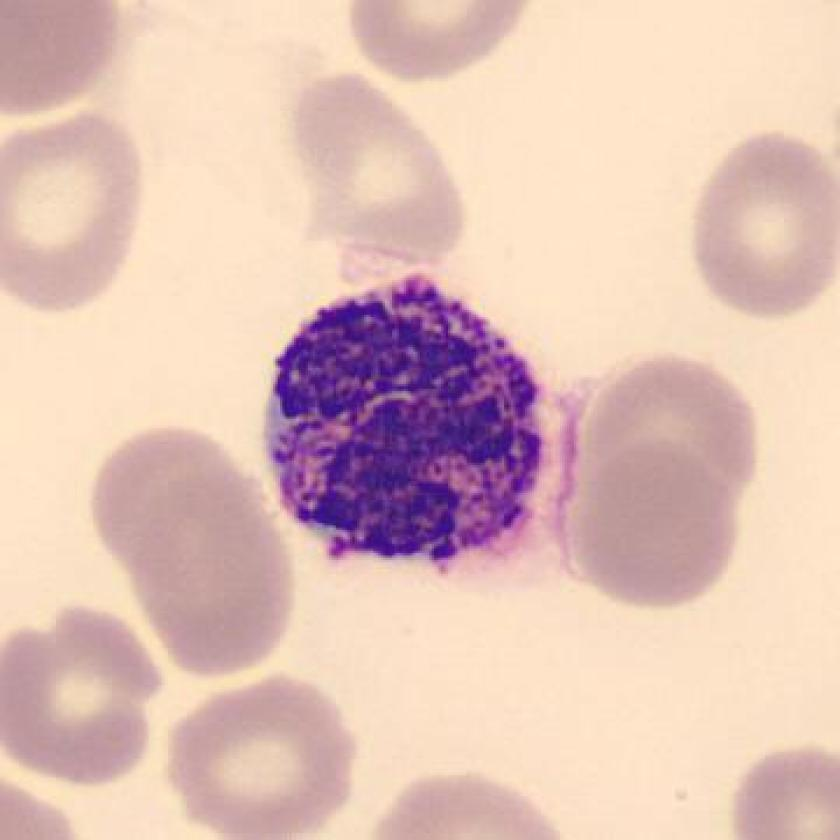basophil: (256, 265, 571, 568)
